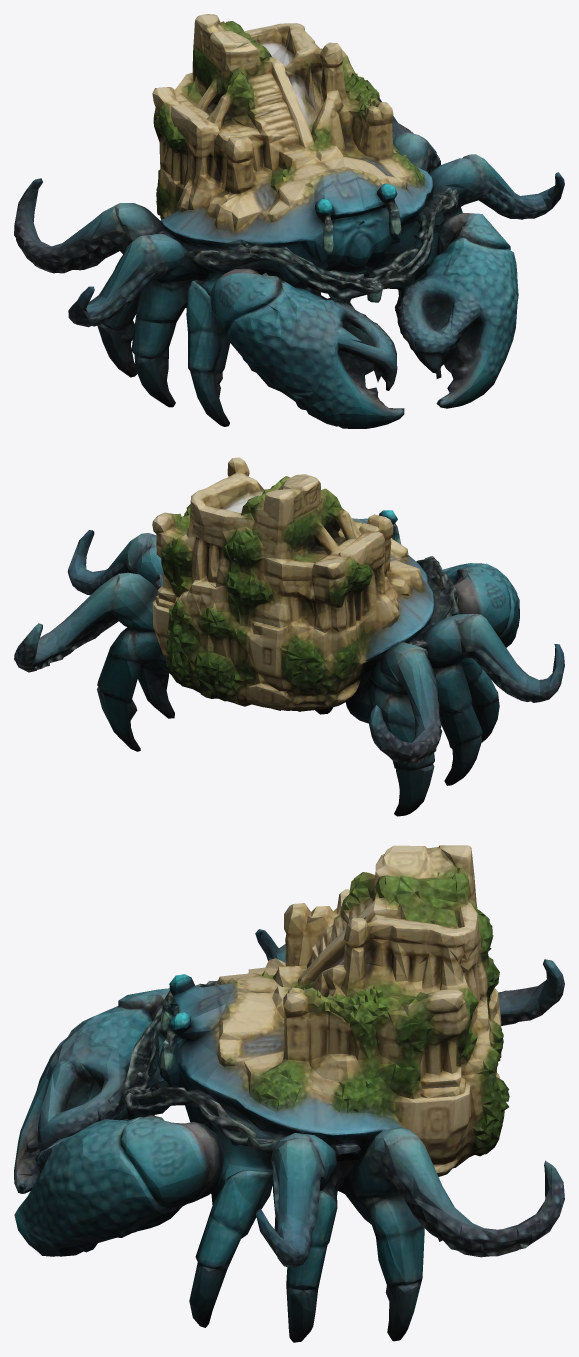
The model's file is atlacrab__krakenAtlas.glb.
3 views of the same model, one above another, from view 1: azimuth 30°, elevation 25°; view 2: azimuth 150°, elevation 25°; view 3: azimuth 270°, elevation 25° (orthographic). The views are drawn at different scales.
Visible parts, largest first — view 1: world; view 2: world; view 3: world.
Part boxes in pixels (bbox=[...]): world: bbox=[14, 14, 564, 428]; world: bbox=[14, 457, 564, 816]; world: bbox=[14, 845, 564, 1342].
Size of the model in its own units: 1 by 0.6221 by 0.7934.
1 material, 1 textured.
